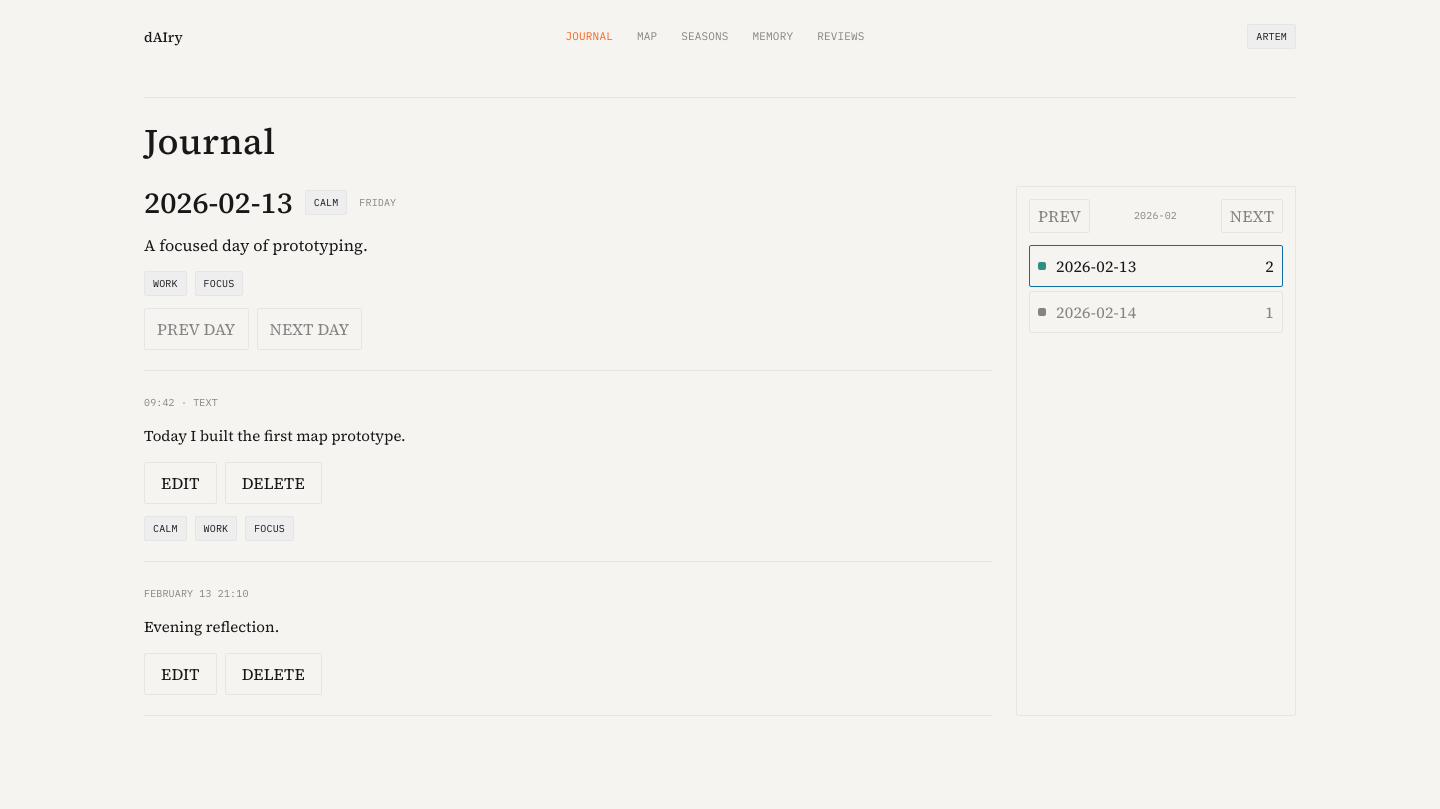
Test: Sprint 3 journal reader › 502 shows editing disabled
Click the button "EDIT" below "Today I built the first map prototype." at (180, 483), box [144,462,217,504]
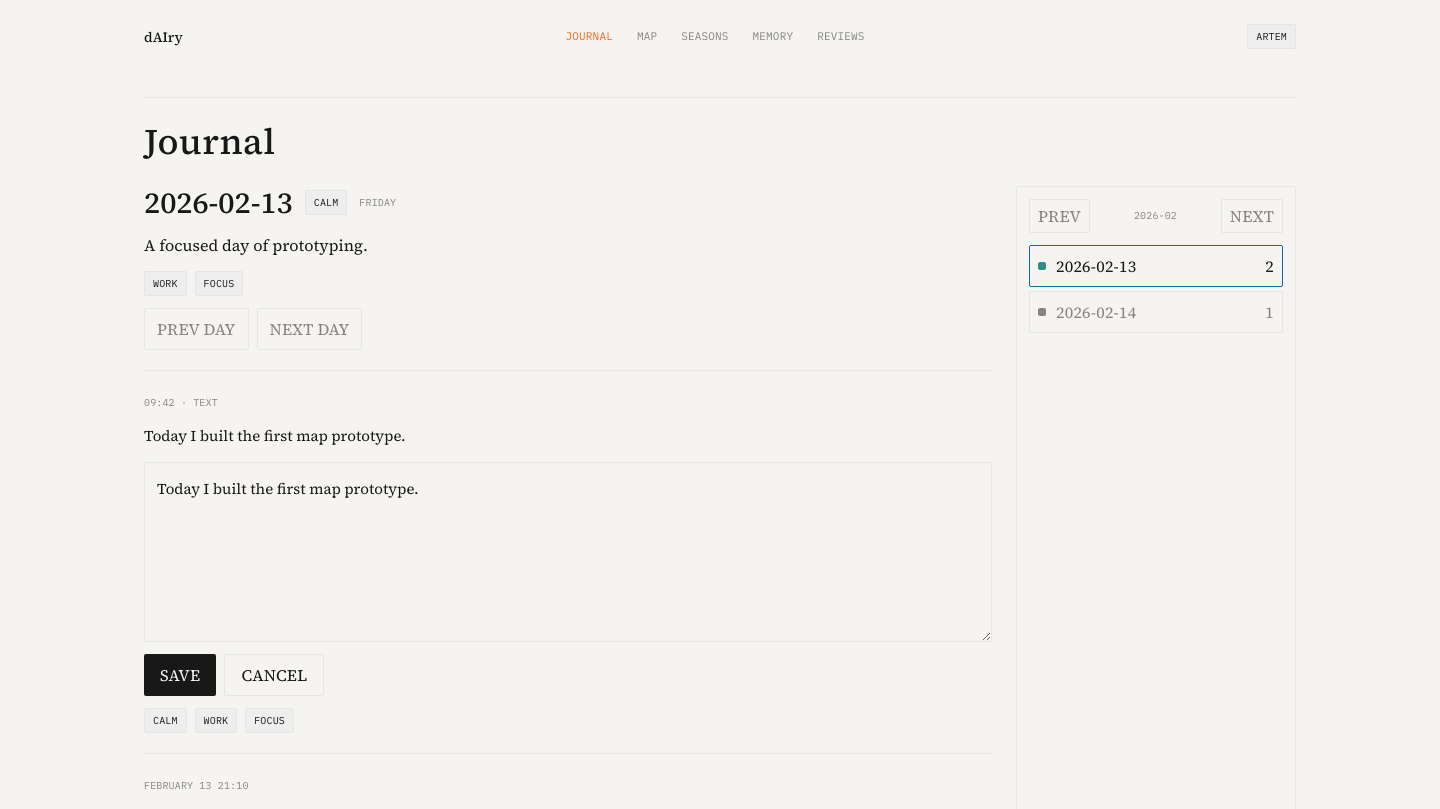
Click the button "SAVE" at (180, 675), box [144,654,216,696]
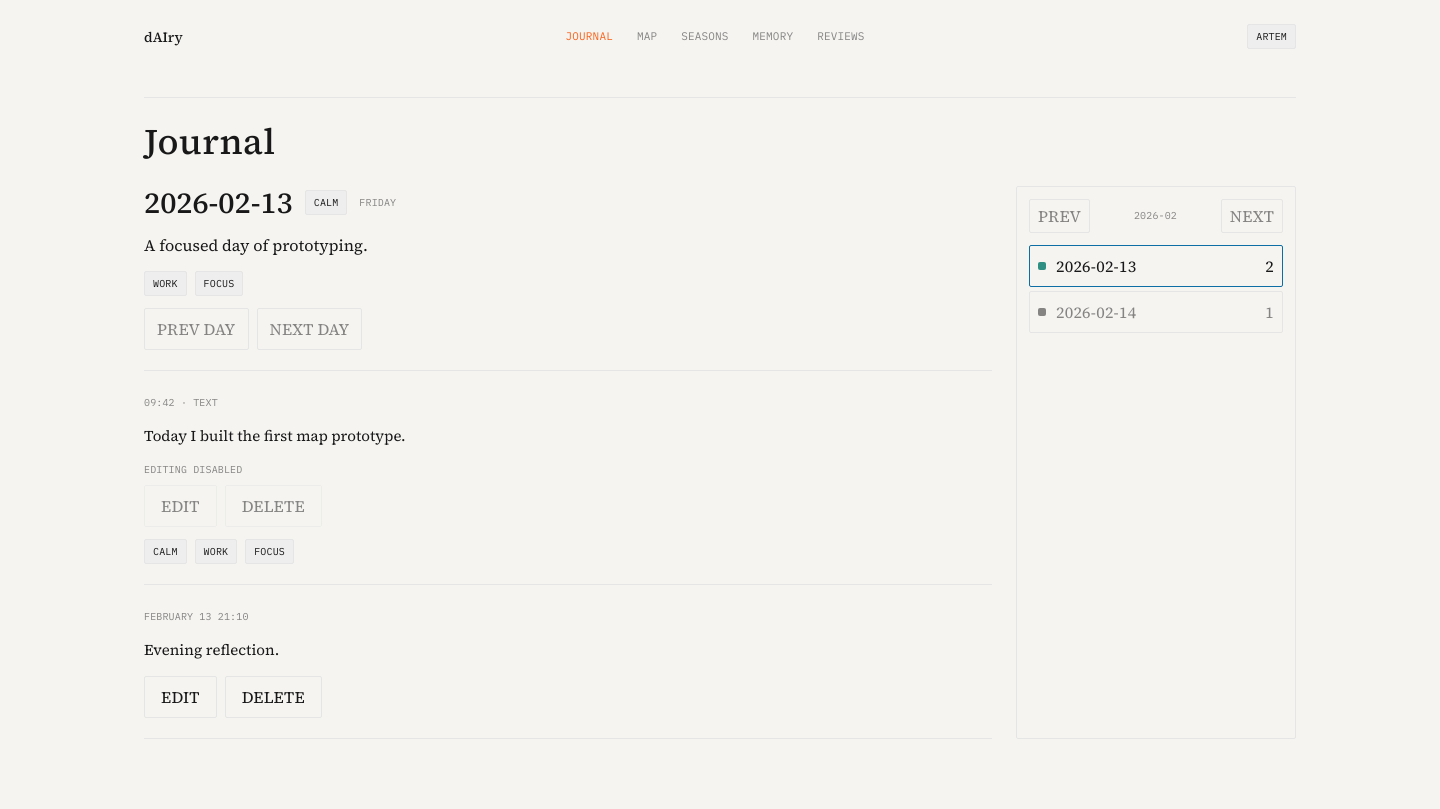
Now the text "EDITING DISABLED" is shown, box [144,463,242,476]
Now the button "EDIT" below "EDITING DISABLED" is disabled, box [144,485,217,527]
